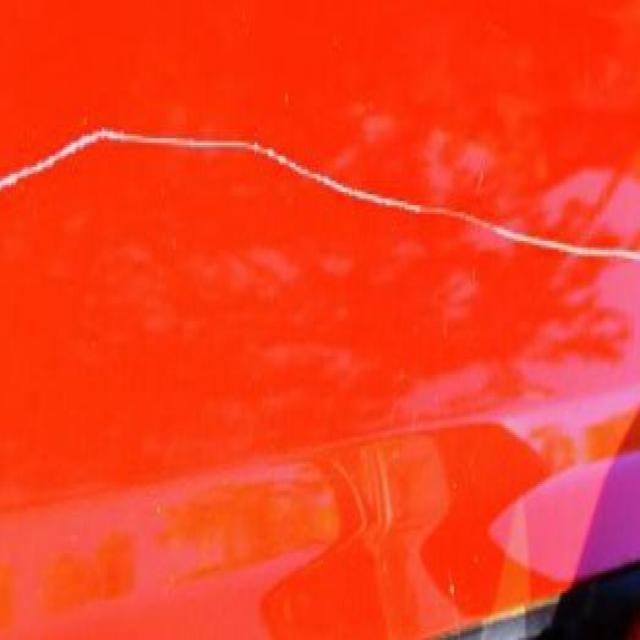scratch: (5, 115, 640, 280)
